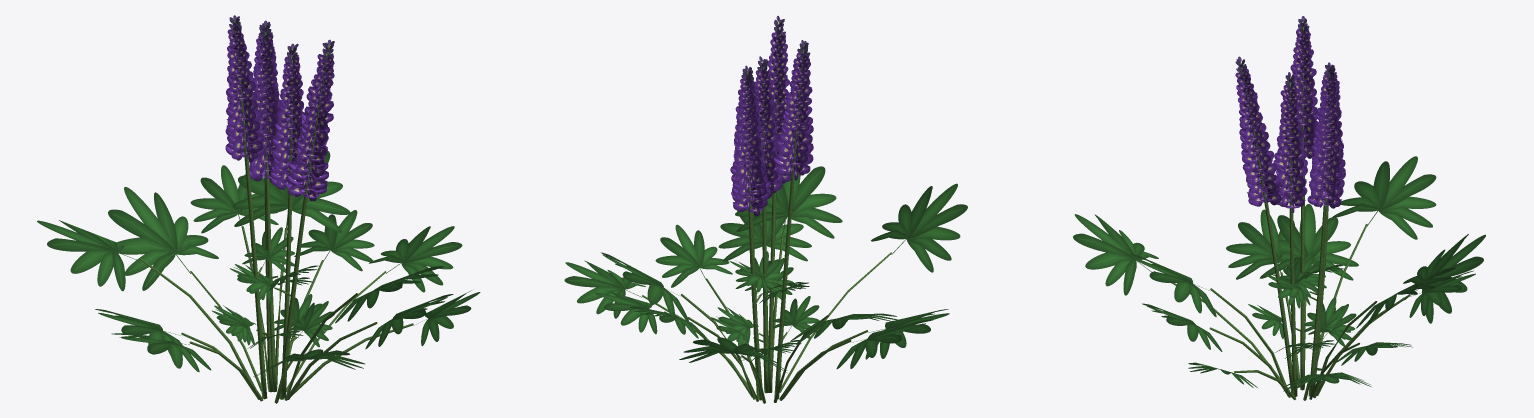
File: lupine_v02.fbx
3 renders of one model, left to right at view 1: azimuth 30°, elevation 25°; view 2: azimuth 150°, elevation 25°; view 3: azimuth 270°, elevation 25°, orthographic. The views are drawn at different scales.
Visible parts, largest first — view 1: lupine_v02; view 2: lupine_v02; view 3: lupine_v02.
Boxes of the visible parts, x1,y1,x2,y2 form: lupine_v02: [37, 15, 480, 403]; lupine_v02: [564, 16, 967, 403]; lupine_v02: [1073, 16, 1485, 400].
Size of the model in its own units: 97.1 by 99.4 by 82.36.
Materials: 3 (3 with a texture image).
